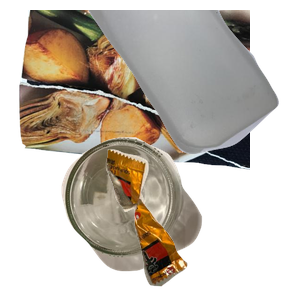glass: (59, 135, 254, 300)
paper: (16, 10, 256, 172)
plastic: (84, 10, 300, 157)
trash: (103, 147, 300, 300)
